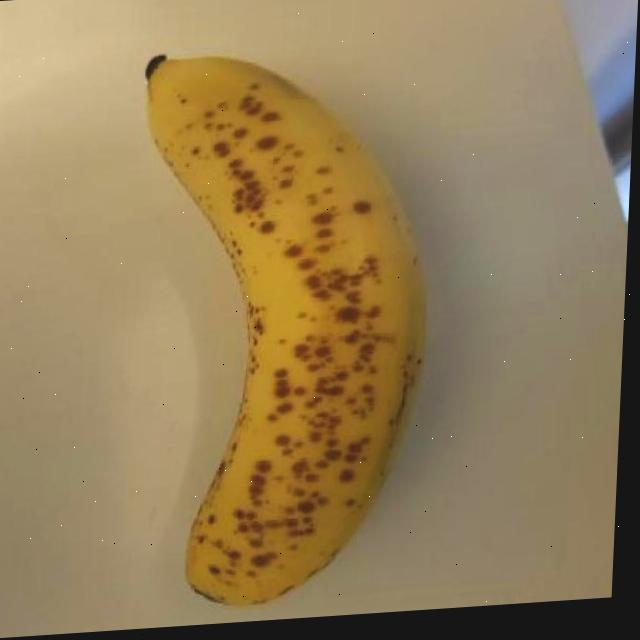banana: (116, 31, 440, 616)
